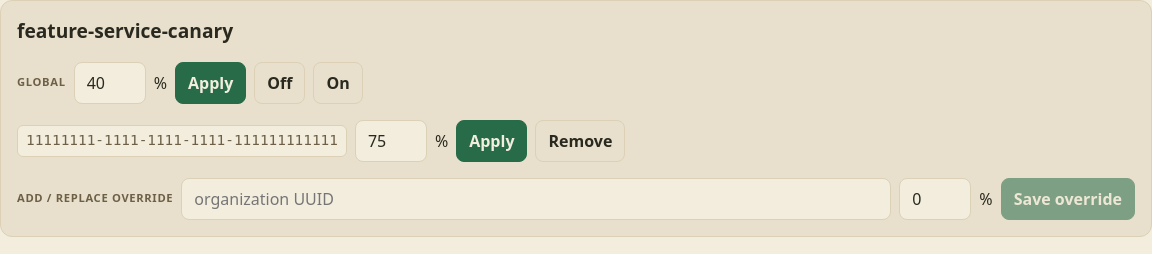
it: FeatureToggleCardComponent › disables the add-override save until a valid UUID and percentage are entered
The width and height of the screenshot is (1152, 254).
Expected: the button with test id "add-save" is disabled, [1001,178,1135,220]
Type "not-a-uuid" into the field with test id "add-organization-id".
click(536, 199); type("not-a-uuid")  # box [181,178,891,220]
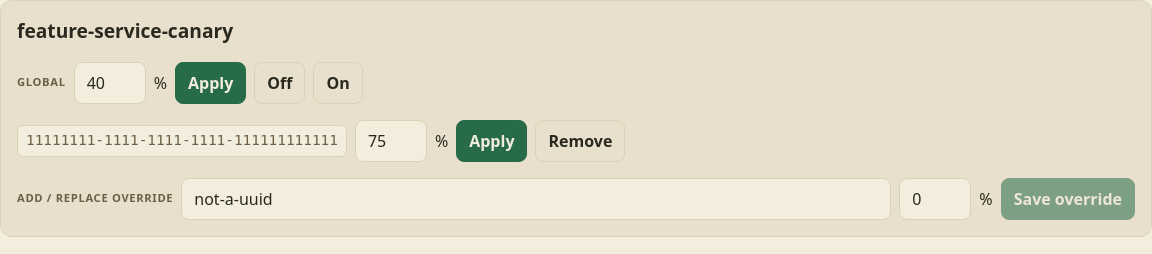
Replace the text in the number field with test id "add-percentage" with "20" at {"x": 935, "y": 199}, box [899,178,971,220]
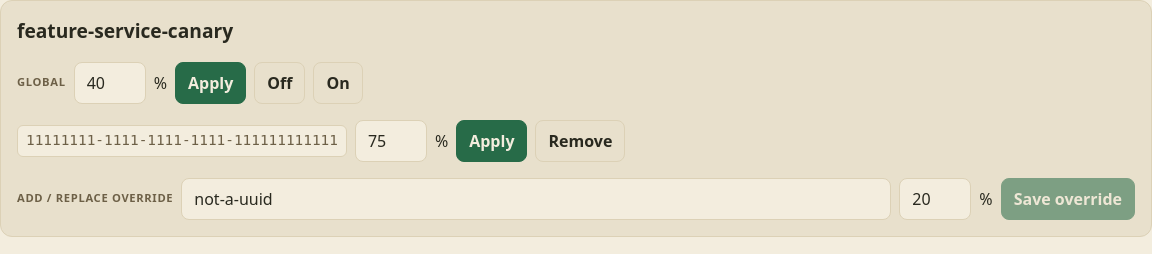
Expected: the button with test id "add-save" is disabled, [1001,178,1135,220]
Replace the text in the field with test id "add-organization-id" with "11111111-1111-1111-1111-111111111111" at {"x": 536, "y": 199}, box [181,178,891,220]
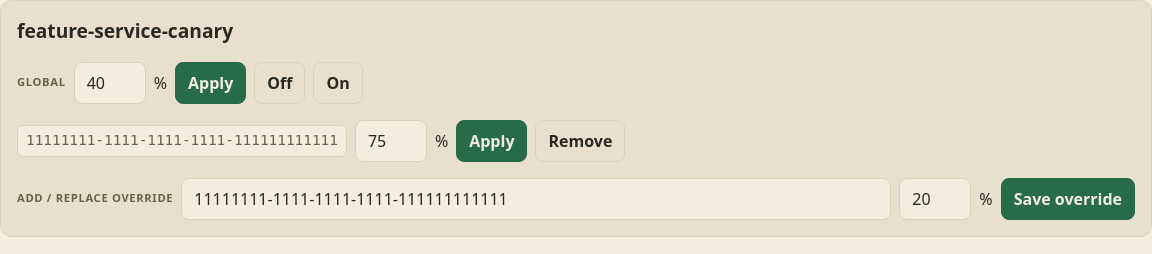
Result: the button with test id "add-save" is enabled at [1001,178,1135,220]
